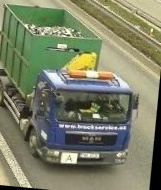truck: (0, 2, 145, 173)
